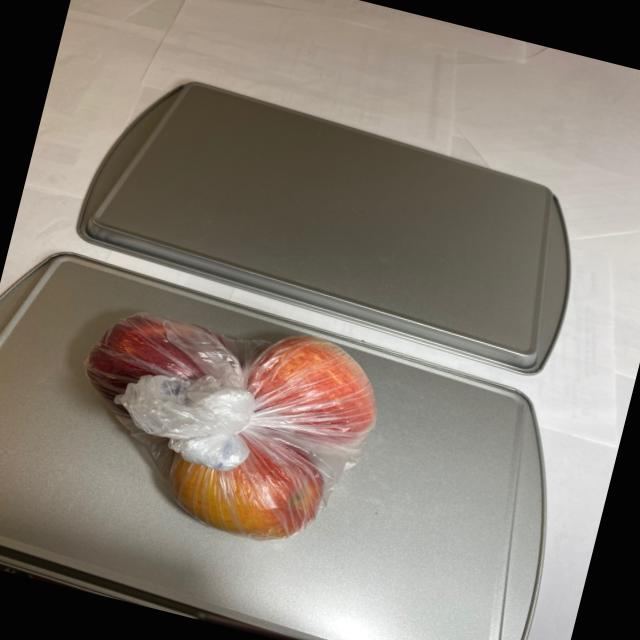apple: (52, 283, 400, 564)
